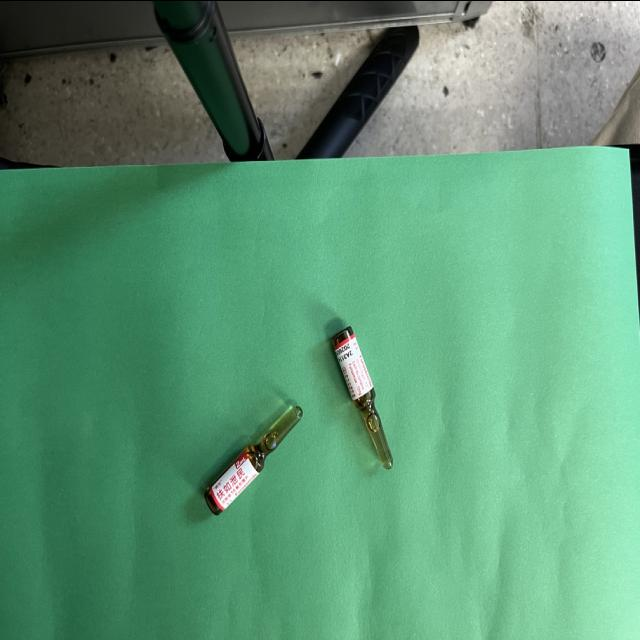Ampoules: (206, 405, 302, 514), (332, 326, 392, 467)
